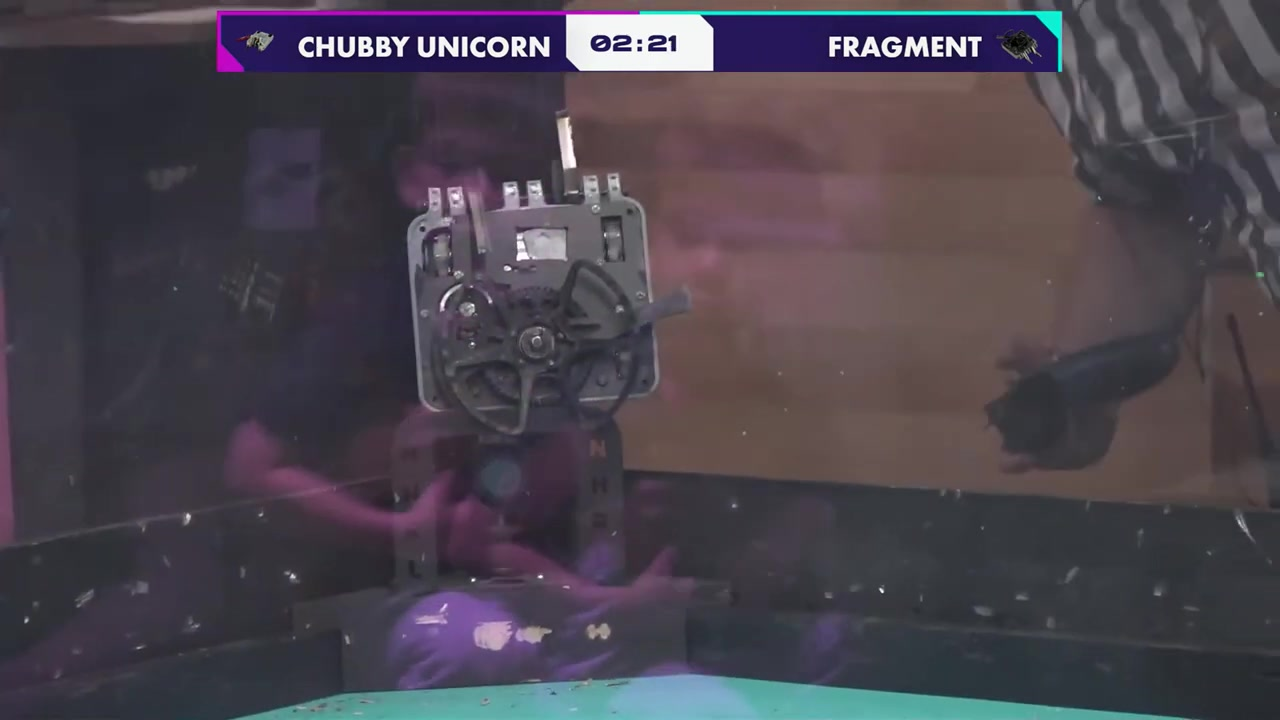combatbot: (406, 105, 695, 431)
